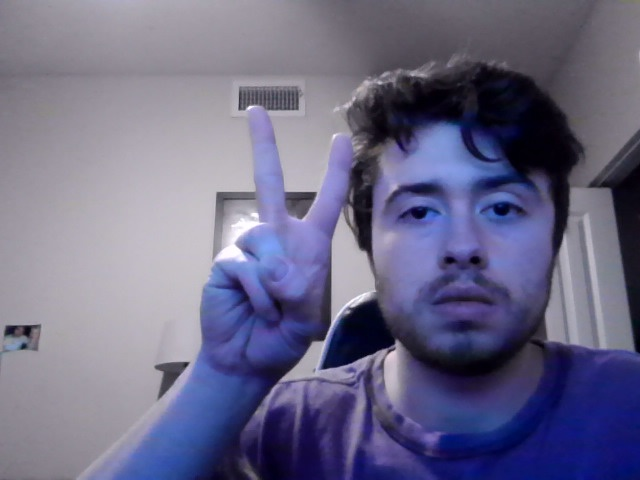v: (198, 104, 354, 400)
